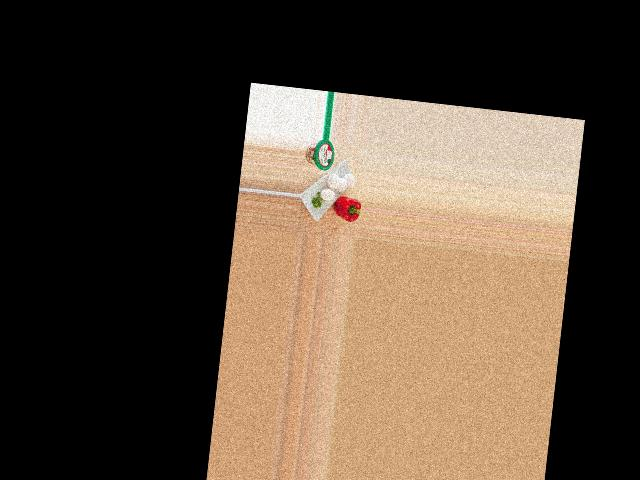bell_pepper: (332, 191, 362, 224)
